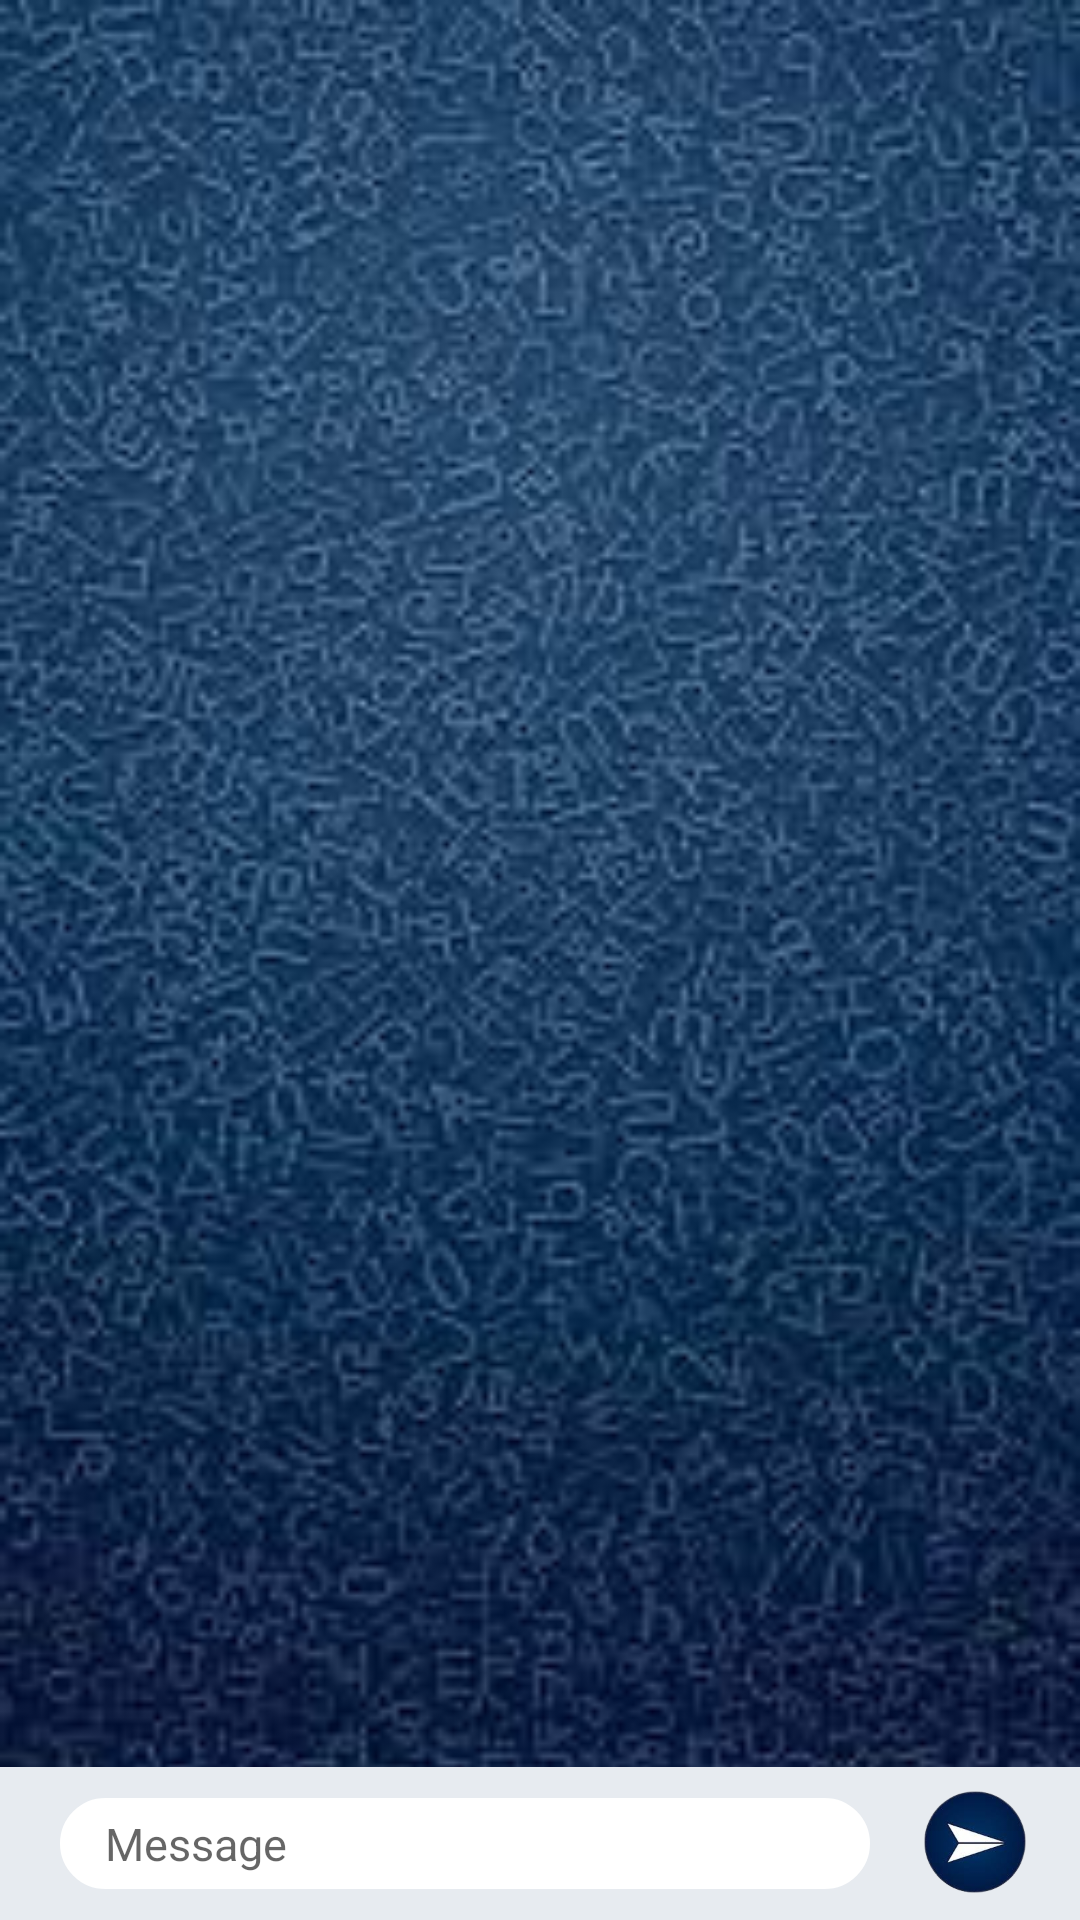

Screen size 1080 x 1920. Icon name, then its center in pixels as (x=x, y=y):
sent: (x=975, y=1842)
